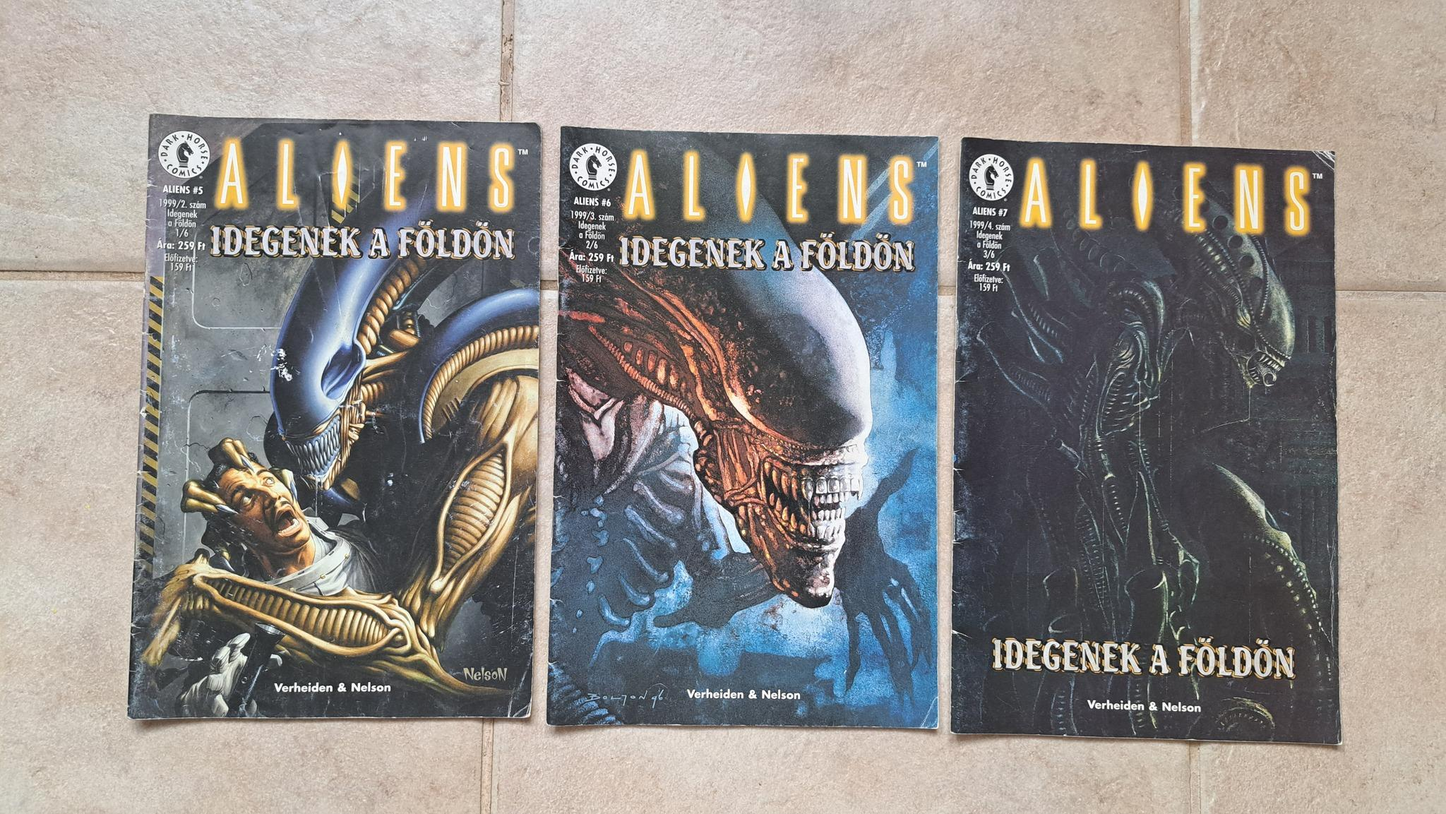comic: (129, 111, 550, 730), (952, 138, 1346, 743), (549, 128, 941, 727)
